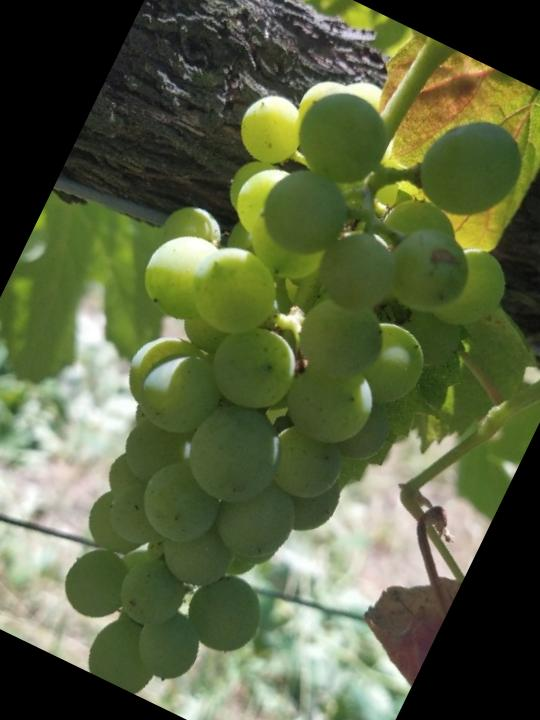grape: (0, 11, 540, 720)
